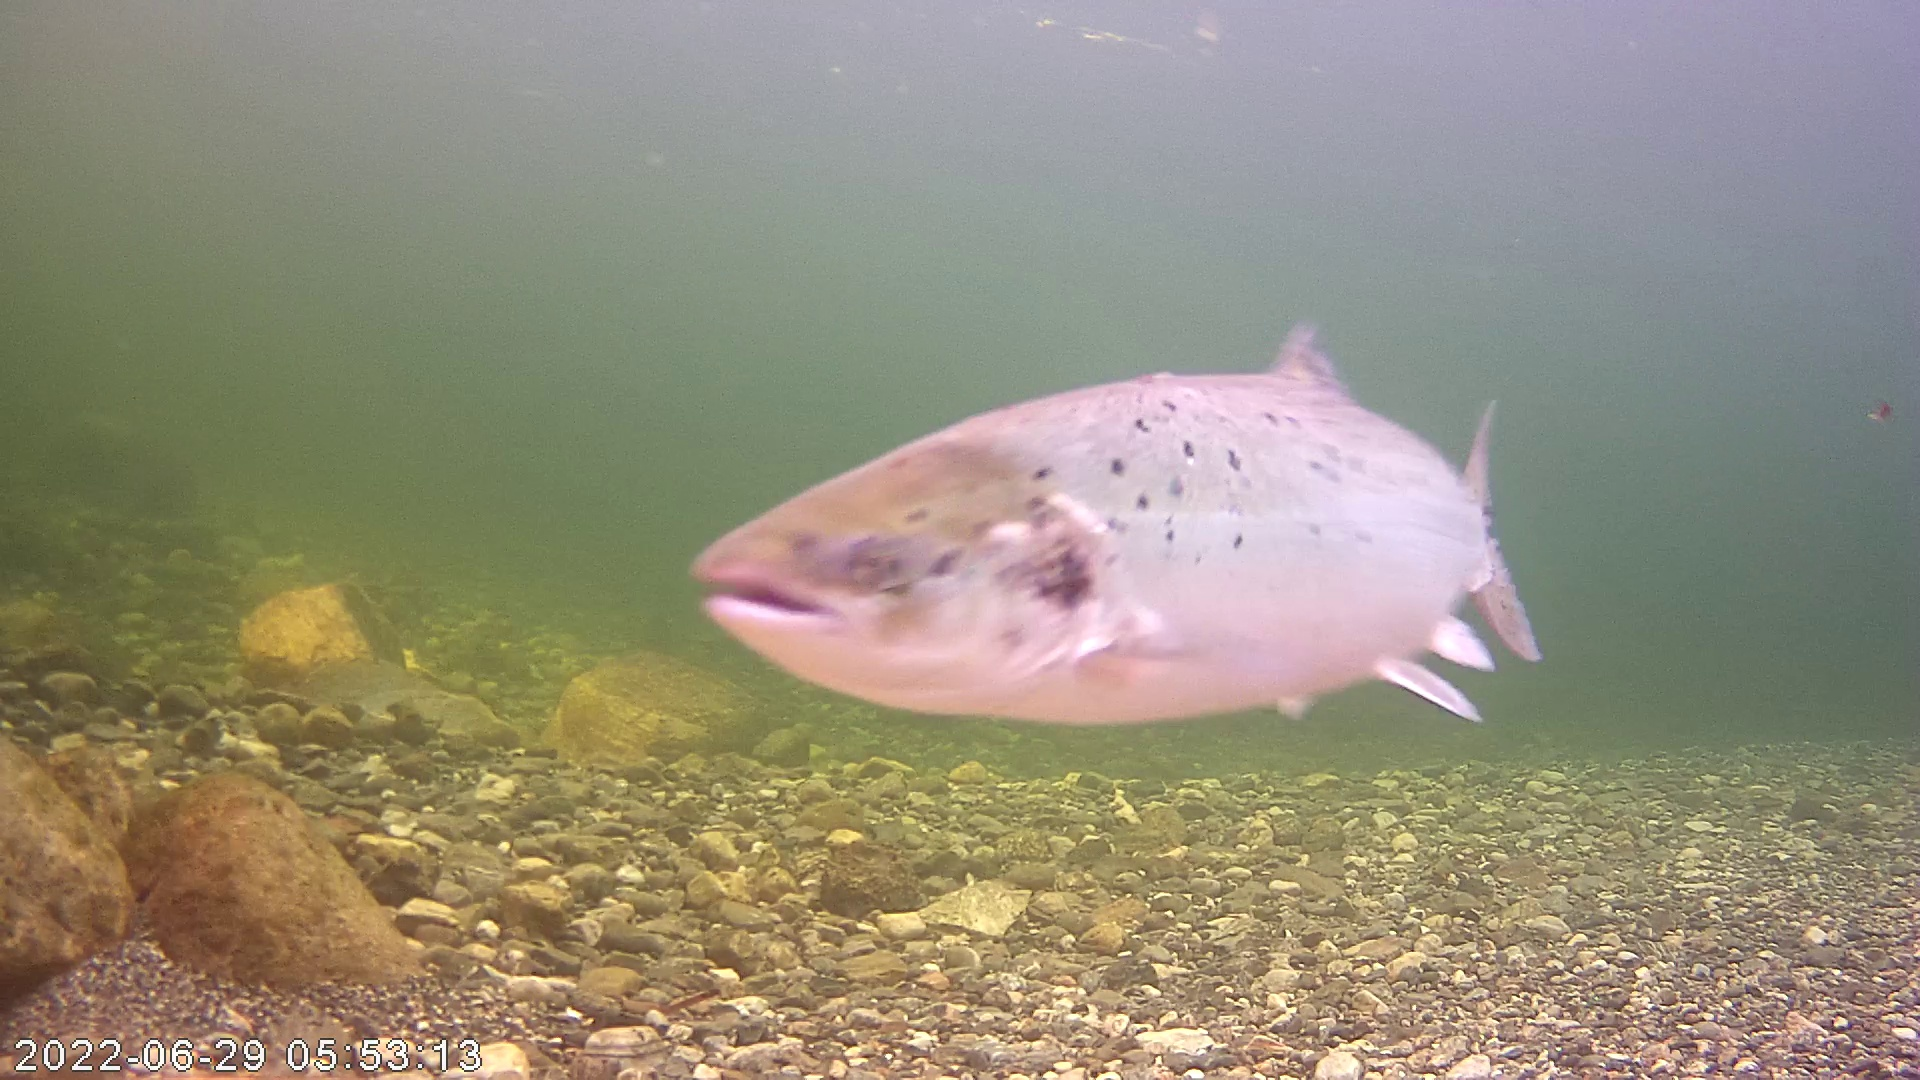salmon: (683, 276, 1538, 740)
